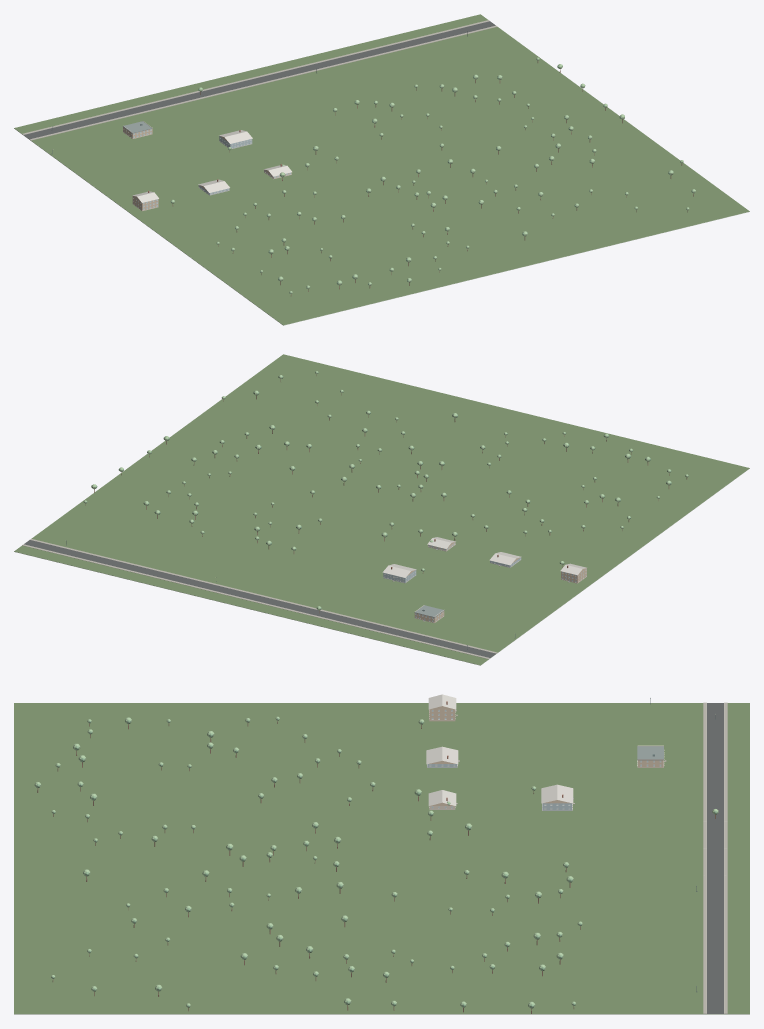
The model's file is chunk_6_2_high.glb.
The picture shows the model from 3 angles, top to bottom: view 1: azimuth 30°, elevation 25°; view 2: azimuth 150°, elevation 25°; view 3: azimuth 270°, elevation 25°; orthographic projection. The views are drawn at different scales.
Visible parts, largest first — view 1: city_forest_floor, city_world_asphalt, city_world_sidewalk, city_foliage, city_roof_tile, city_grass, city_curb, city_foliage_dark; view 2: city_forest_floor, city_world_asphalt, city_world_sidewalk, city_foliage, city_roof_tile, city_grass, city_curb, city_foliage_dark; view 3: city_forest_floor, city_world_asphalt, city_foliage, city_world_sidewalk, city_roof_tile, city_foliage_dark, city_wall_sand, city_grass, city_bark, city_curb.
Boxes of the visible parts, x1,y1,x2,y2 form: city_forest_floor: (14,14,749,325); city_world_asphalt: (24,21,495,139); city_world_sidewalk: (22,20,497,140); city_foliage: (171,57,695,293); city_roof_tile: (132,130,291,202); city_grass: (14,128,749,325); city_curb: (23,21,495,138); city_foliage_dark: (170,58,692,293); city_forest_floor: (14,354,749,665); city_world_asphalt: (24,540,495,657); city_world_sidewalk: (22,538,569,659); city_foliage: (84,371,687,610); city_roof_tile: (382,537,586,577); city_grass: (14,468,749,665); city_curb: (24,539,495,657); city_foliage_dark: (83,372,688,609); city_forest_floor: (14,703,749,1013); city_world_asphalt: (707,703,723,1013); city_foliage: (34,716,718,1008); city_world_sidewalk: (455,702,727,1013); city_roof_tile: (426,694,573,805); city_foliage_dark: (36,718,717,1008); city_wall_sand: (429,706,663,805); city_grass: (14,1014,749,1014); city_bark: (37,721,715,1013); city_curb: (703,703,727,1013).
Bounding box in the file's own units: 515 × 13.52 × 512.
